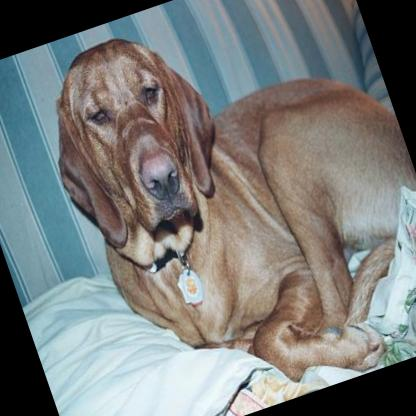vizsla: (20, 0, 416, 416)
